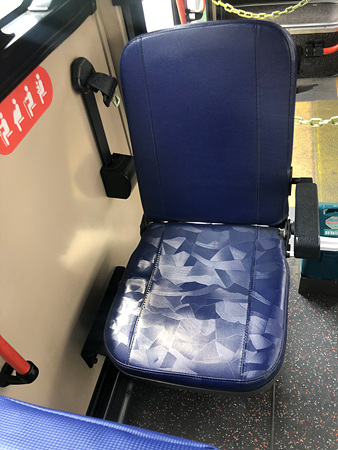seat: (107, 23, 288, 381)
